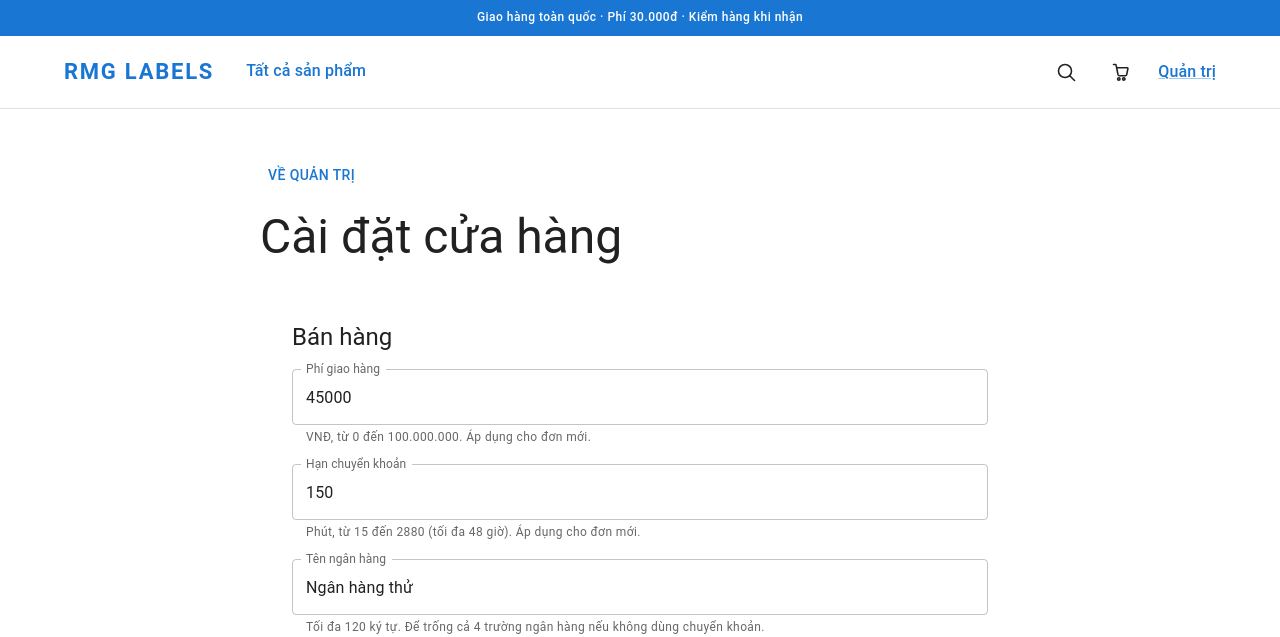
Test: admin settings page › saves through PATCH /admin/settings and adopts the server response as the new baseline
The width and height of the screenshot is (1280, 637).
Replace the text in the field labelled "Phí giao hàng" with "51000" at [640, 397], box [292,369,988,425]
(page scrolled)
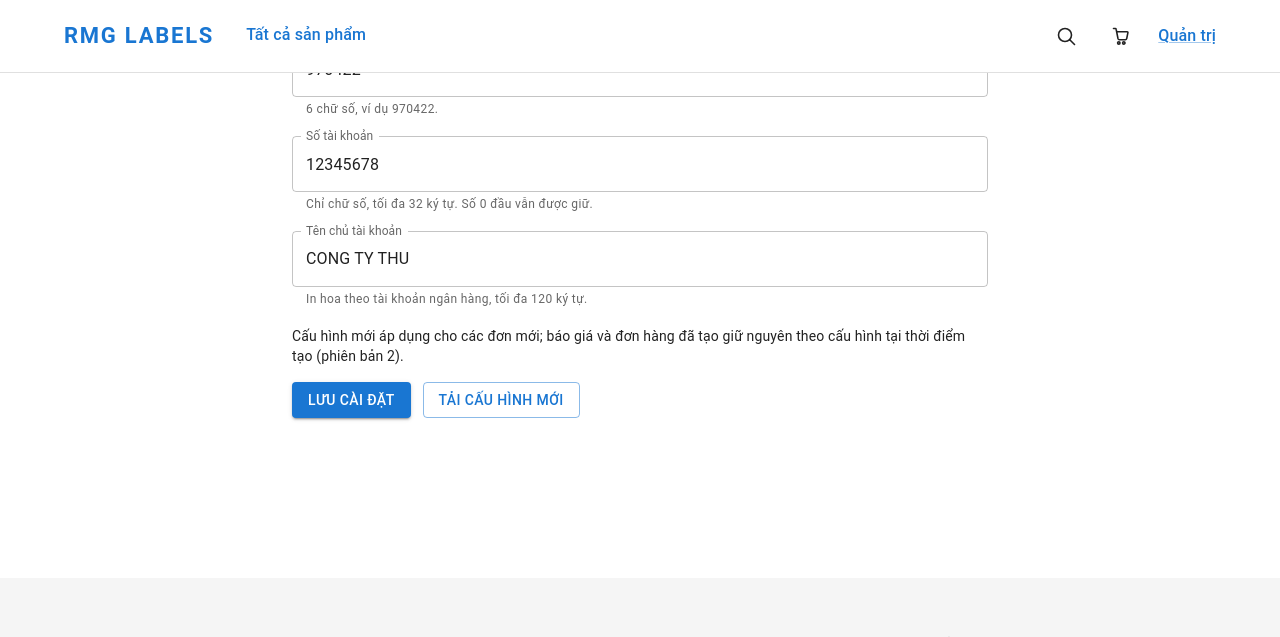
Click the button "Lưu cài đặt" at [351, 400], box [292,382,411,418]
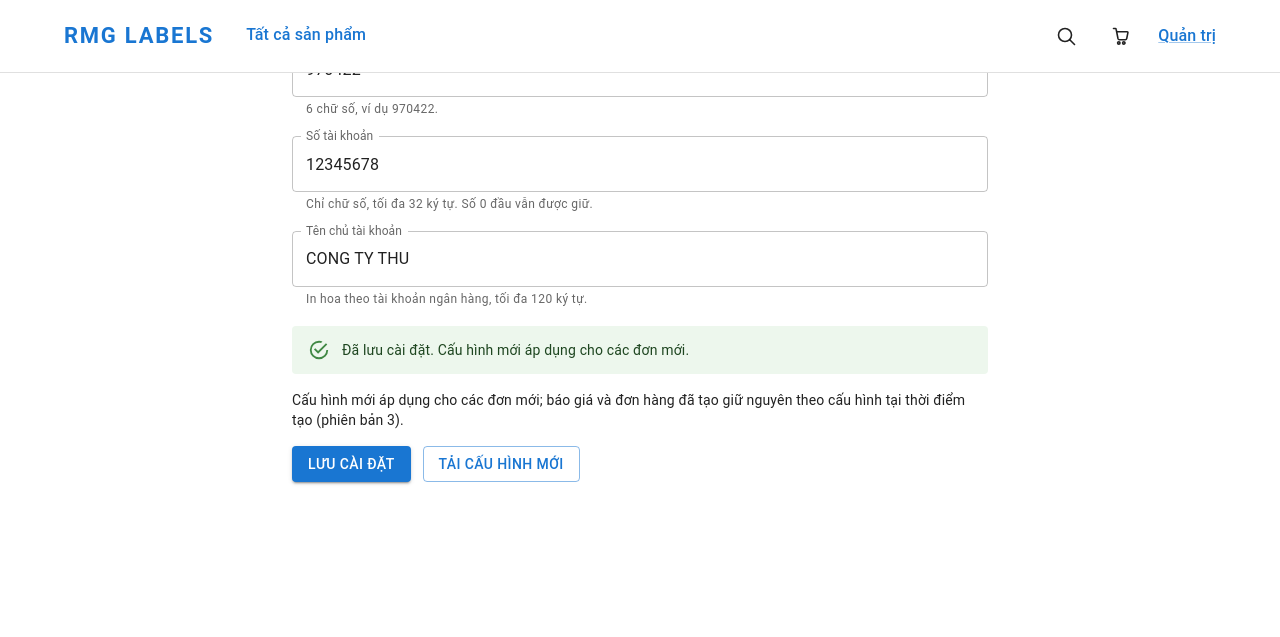
Expected: the text "Đã lưu cài đặt. Cấu hình mới áp dụng cho các đơn mới." is shown, [342,342,689,358]
Expected: the text "báo giá và đơn hàng đã tạo giữ nguyên" shows "phiên bản 3", [292,390,988,430]
